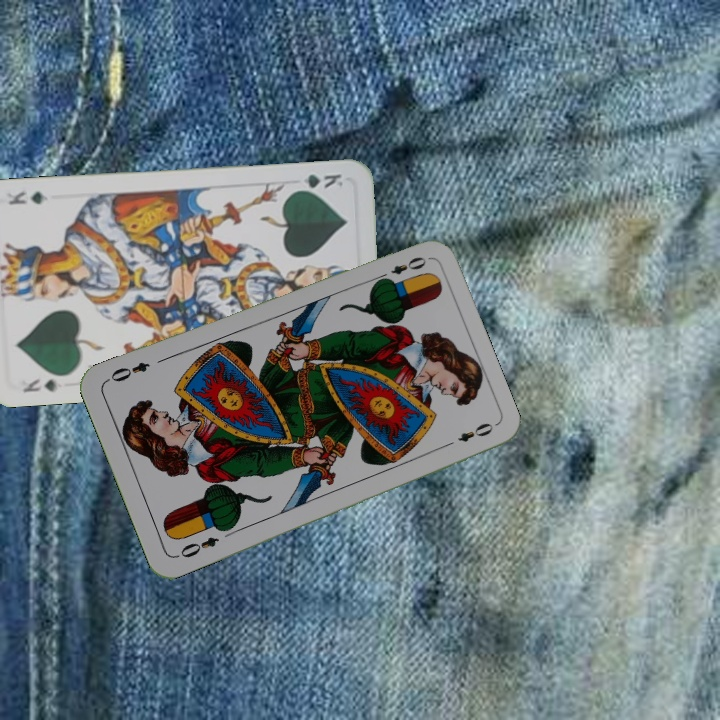EO: (373, 252, 429, 285), (172, 532, 222, 561)
GK: (289, 170, 346, 194), (19, 375, 60, 395)
